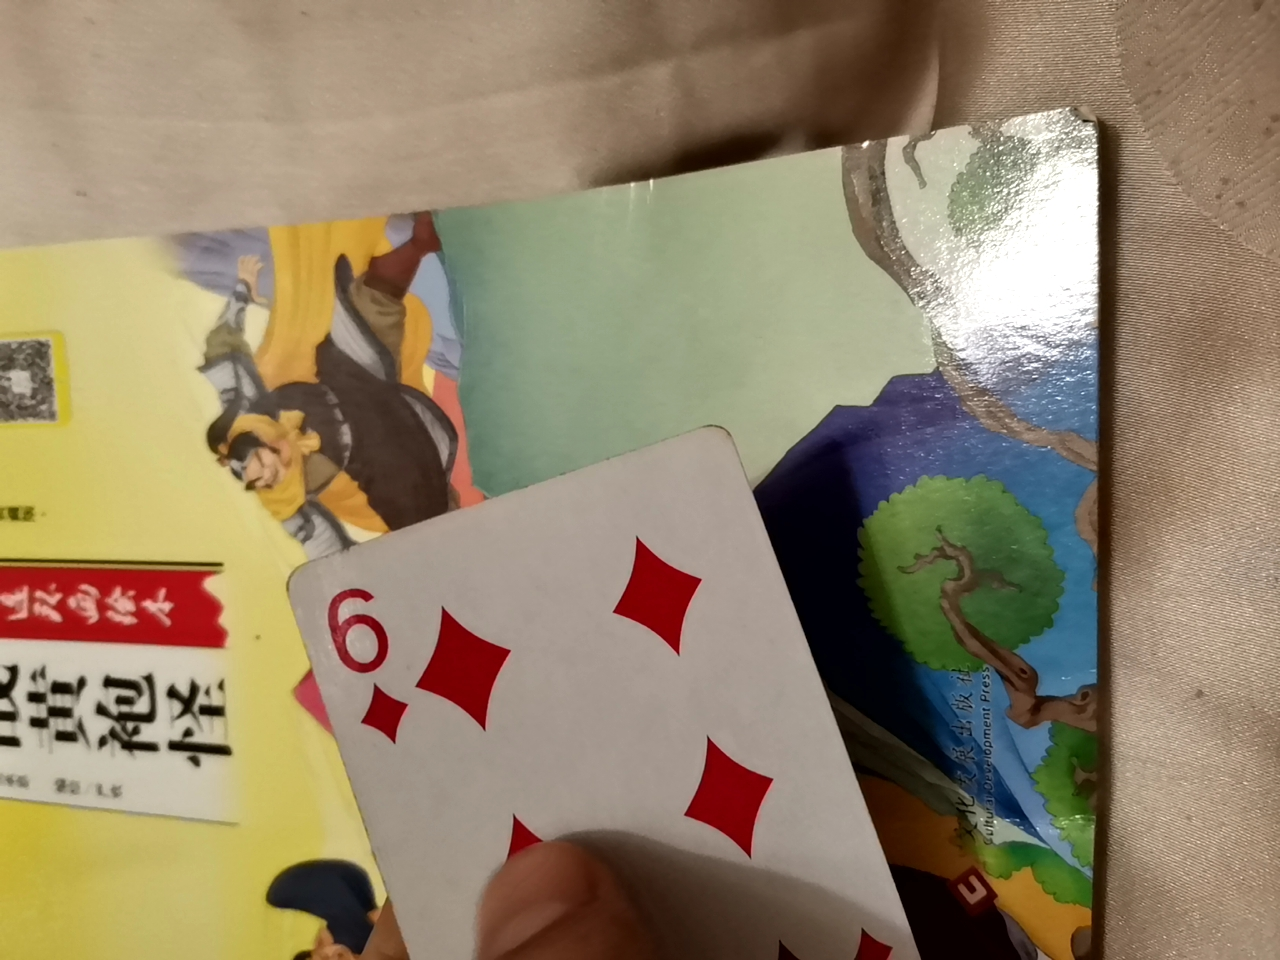fk 6: (313, 474, 919, 952)
